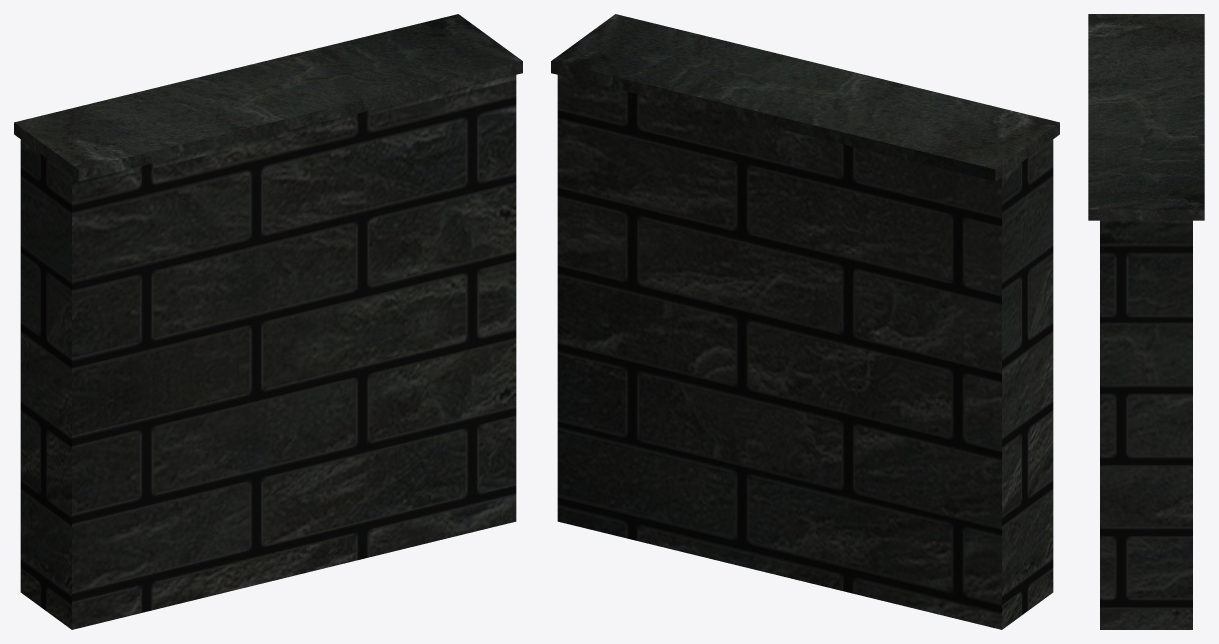
Rendered from one_wall.glb.
The picture shows the model from 3 angles, left to right: view 1: azimuth 30°, elevation 25°; view 2: azimuth 150°, elevation 25°; view 3: azimuth 270°, elevation 25°; orthographic projection. The views are drawn at different scales.
Visible parts, largest first — view 1: MuroAlto.004; view 2: MuroAlto.004; view 3: MuroAlto.004.
Part boxes in pixels (x1,y1,x2,y2): MuroAlto.004: [14, 14, 522, 629]; MuroAlto.004: [551, 14, 1059, 629]; MuroAlto.004: [1088, 14, 1204, 629].
Size of the model in its own units: 200 by 200 by 50.2.
Materials: 2 (2 with a texture image).
